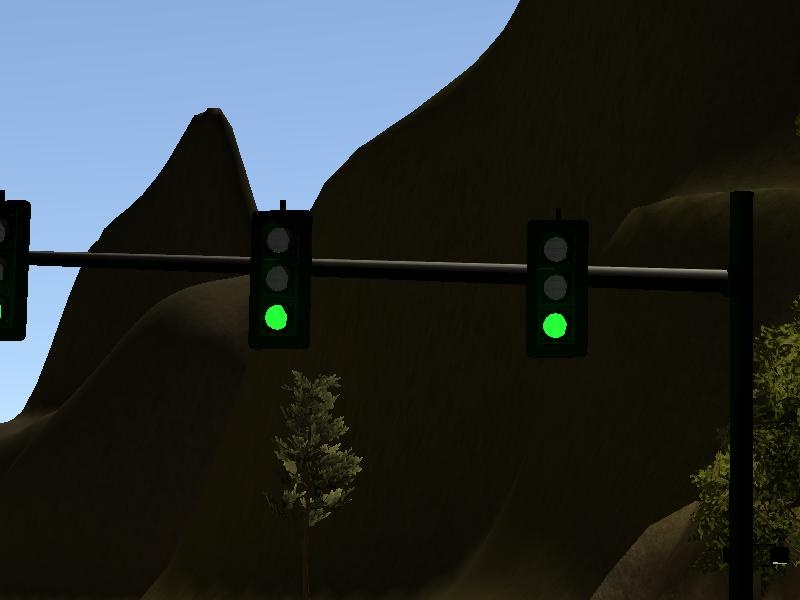GREEN: (528, 216, 587, 353), (253, 211, 309, 343)
